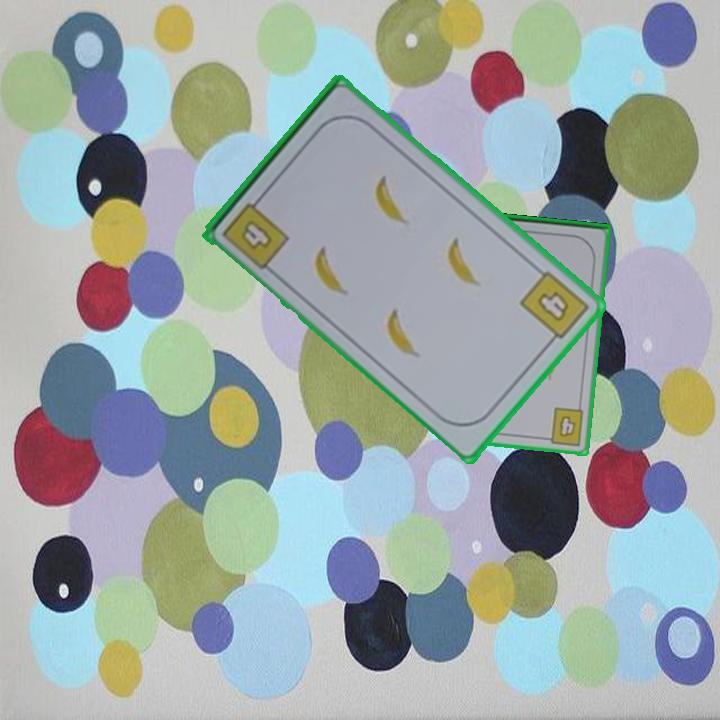4b: (516, 267, 592, 349), (541, 404, 586, 448), (241, 220, 276, 253)
